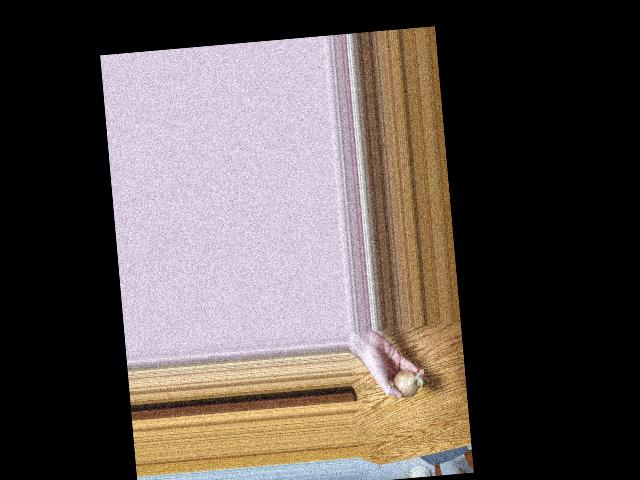onion: (391, 367, 419, 398)
